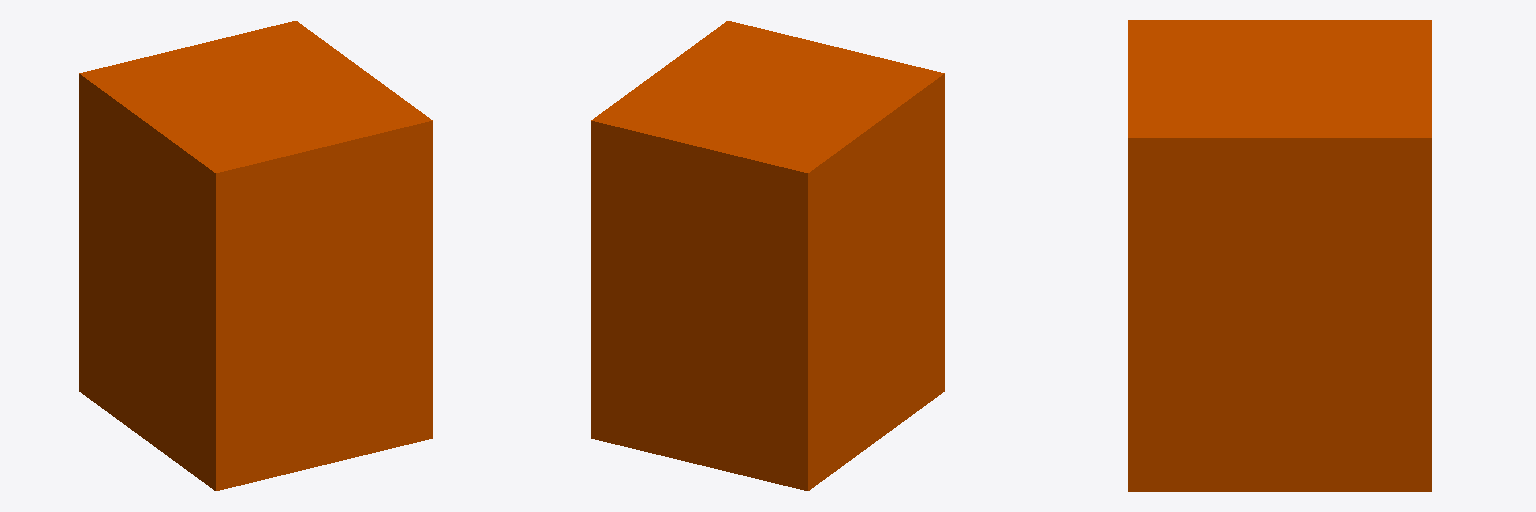
robot.urdf — [local-path]/GIT/Justina/src/Hardware/justina_description/webots:
<?xml version="1.0"?>
<robot name="/home/devan/GIT/Justina/src/Hardware/justina_description/webots_env/urdf/RobotinoBase.urdf" xmlns:xacro="http://ros.org/wiki/xacro">
  <link name="base_link">
  </link>
  <joint name="wheel2_joint" type="continuous">
    <parent link="base_link"/>
    <child link="wheel2_link"/>
    <axis xyz="-0.000001 1 0"/>
    <limit effort="10" velocity="3"/>
    <origin xyz="0.0825 0.142894 0.063899" rpy="0 0 -0.5236"/>
  </joint>
  <link name="wheel2_link">
  </link>
  <joint name="wheel1_joint" type="continuous">
    <parent link="base_link"/>
    <child link="wheel1_link"/>
    <axis xyz="0 1 0"/>
    <limit effort="10" velocity="3"/>
    <origin xyz="0.0825 -0.142894 0.064106" rpy="0 0 -2.617994"/>
  </joint>
  <link name="wheel1_link">
  </link>
  <joint name="wheel0_joint" type="continuous">
    <parent link="base_link"/>
    <child link="wheel0_link"/>
    <axis xyz="0.000003 1 0"/>
    <limit effort="10" velocity="3"/>
    <origin xyz="-0.165 0 0.064096" rpy="0 0 1.5708"/>
  </joint>
  <link name="wheel0_link">
  </link>
  <link name="tower_link">
  </link>
  <joint name="base_link_tower_link_joint" type="fixed">
    <parent link="base_link"/>
    <child link="tower_link"/>
    <origin xyz="0 0 0.000199" rpy="0 0 0"/>
  </joint>
  <link name="laser_link">
    <visual>
      <origin xyz="0 -0.002 0.035" rpy="0 0 0"/>
      <geometry>
        <box size="0.05 0.05455 0.07"/>
      </geometry>
    </visual>
    <collision>
      <origin xyz="0 -0.002 0.035" rpy="0 0 0"/>
      <geometry>
        <box size="0.05 0.05455 0.07"/>
      </geometry>
    </collision>
  </link>
  <joint name="base_link_laser_link_joint" type="fixed">
    <parent link="base_link"/>
    <child link="laser_link"/>
    <origin xyz="0.06 0 0.1975" rpy="0 0 0"/>
  </joint>
  <link name="torso_link">
  </link>
  <joint name="base_link_torso_link_joint" type="fixed">
    <parent link="base_link"/>
    <child link="torso_link"/>
    <origin xyz="0 0 0.785" rpy="0 0 0"/>
  </joint>
  <link name="spine_link">
  </link>
  <joint name="torso_link_spine_link_joint" type="fixed">
    <parent link="torso_link"/>
    <child link="spine_link"/>
    <origin xyz="0 0 0.420914" rpy="0 0 0"/>
  </joint>
  <link name="neck_link">
  </link>
  <joint name="spine_link_neck_link_joint" type="fixed">
    <parent link="spine_link"/>
    <child link="neck_link"/>
    <origin xyz="0 0 0.140425" rpy="0 0 0"/>
  </joint>
  <joint name="head_pan_joint" type="revolute">
    <parent link="neck_link"/>
    <child link="head_link"/>
    <axis xyz="0 0 1"/>
    <limit effort="16" lower="-1.7" upper="1.7" velocity="3"/>
    <origin xyz="0 0 0.0205" rpy="0 0 0"/>
  </joint>
  <link name="head_link">
  </link>
  <joint name="head_tilt_joint" type="revolute">
    <parent link="head_link"/>
    <child link="mask_link"/>
    <axis xyz="0 -1 0"/>
    <limit effort="16" lower="-1.7" upper="1.7" velocity="3"/>
    <origin xyz="0 0 0.058493" rpy="0 0 0"/>
  </joint>
  <link name="mask_link">
  </link>
  <link name="camera_link">
  </link>
  <joint name="mask_link_camera_link_joint" type="fixed">
    <parent link="mask_link"/>
    <child link="camera_link"/>
    <origin xyz="0 0 0.083435" rpy="0 0 0"/>
  </joint>
  <link name="left_shoulder_link">
  </link>
  <joint name="spine_link_left_shoulder_link_joint" type="fixed">
    <parent link="spine_link"/>
    <child link="left_shoulder_link"/>
    <origin xyz="0 0.212537 -0.044976" rpy="0 0 0"/>
  </joint>
  <joint name="left_motor_frame_joint" type="revolute">
    <parent link="left_shoulder_link"/>
    <child link="left_motor_frame_link"/>
    <axis xyz="0 -1 0"/>
    <limit effort="16" lower="-1.7" upper="1.7" velocity="3"/>
    <origin xyz="0 0 -0.060551" rpy="0 0 0"/>
  </joint>
  <link name="left_motor_frame_link">
  </link>
  <joint name="left_arm_joint" type="revolute">
    <parent link="left_motor_frame_link"/>
    <child link="left_arm_link"/>
    <axis xyz="0 0 -1"/>
    <limit effort="16" lower="-1.7" upper="1.7" velocity="3"/>
    <origin xyz="0 0 -0.034581" rpy="0 0 0"/>
  </joint>
  <link name="left_arm_link">
  </link>
  <joint name="left_elbow_joint" type="revolute">
    <parent link="left_arm_link"/>
    <child link="left_forearm_link"/>
    <axis xyz="0 -1 0"/>
    <limit effort="16" lower="-1.7" upper="1.7" velocity="3"/>
    <origin xyz="0 0 -0.216002" rpy="0 0 0"/>
  </joint>
  <link name="left_forearm_link">
  </link>
  <joint name="left_wrist_joint" type="revolute">
    <parent link="left_forearm_link"/>
    <child link="left_wrist_link"/>
    <axis xyz="0 0 -1"/>
    <limit effort="16" lower="-1.7" upper="0" velocity="3"/>
    <origin xyz="0 0 -0.2305" rpy="0 0 0"/>
  </joint>
  <link name="left_wrist_link">
  </link>
  <joint name="left_griper_R_joint" type="revolute">
    <parent link="left_wrist_link"/>
    <child link="left_griper_R_link"/>
    <axis xyz="-1 0 0"/>
    <limit effort="16" lower="-1.7" upper="1.7" velocity="3"/>
    <origin xyz="0 -0.0405 -0.021675" rpy="0 0 0"/>
  </joint>
  <link name="left_griper_R_link">
  </link>
  <joint name="left_griper_L_joint" type="revolute">
    <parent link="left_wrist_link"/>
    <child link="left_griper_L_link"/>
    <axis xyz="-1 0 0"/>
    <limit effort="16" lower="-1.7" upper="1.7" velocity="3"/>
    <origin xyz="0 0.0405 -0.0217" rpy="0 0 0"/>
  </joint>
  <link name="left_griper_L_link">
  </link>
  <link name="right_shoulder_link">
  </link>
  <joint name="spine_link_right_shoulder_link_joint" type="fixed">
    <parent link="spine_link"/>
    <child link="right_shoulder_link"/>
    <origin xyz="0 -0.212537 -0.044976" rpy="0 0 0"/>
  </joint>
  <joint name="right_motor_frame_joint" type="revolute">
    <parent link="right_shoulder_link"/>
    <child link="right_motor_frame_link"/>
    <axis xyz="0 -1 0"/>
    <limit effort="16" lower="-1.7" upper="1.7" velocity="3"/>
    <origin xyz="0 0 -0.060551" rpy="0 0 0"/>
  </joint>
  <link name="right_motor_frame_link">
  </link>
  <joint name="right_arm_joint" type="revolute">
    <parent link="right_motor_frame_link"/>
    <child link="right_arm_link"/>
    <axis xyz="0 0 -1"/>
    <limit effort="16" lower="-1.7" upper="1.7" velocity="3"/>
    <origin xyz="0 0 -0.03458" rpy="0 0 0"/>
  </joint>
  <link name="right_arm_link">
  </link>
  <joint name="right_elbow_joint" type="revolute">
    <parent link="right_arm_link"/>
    <child link="right_forearm_link"/>
    <axis xyz="0 -1 0"/>
    <limit effort="16" lower="-1.7" upper="1.7" velocity="3"/>
    <origin xyz="0 0 -0.216001" rpy="0 0 0"/>
  </joint>
  <link name="right_forearm_link">
  </link>
  <joint name="right_wrist_joint" type="revolute">
    <parent link="right_forearm_link"/>
    <child link="right_wrist_link"/>
    <axis xyz="0 0 -1"/>
    <limit effort="16" lower="-1.7" upper="1.7" velocity="3"/>
    <origin xyz="0 0 -0.2305" rpy="0 0 0"/>
  </joint>
  <link name="right_wrist_link">
  </link>
  <joint name="right_griper_R_joint" type="revolute">
    <parent link="right_wrist_link"/>
    <child link="right_griper_R_link"/>
    <axis xyz="-1 0 0"/>
    <limit effort="16" lower="-1.7" upper="1.7" velocity="3"/>
    <origin xyz="0 -0.0405 -0.0217" rpy="0 0 0"/>
  </joint>
  <link name="right_griper_R_link">
  </link>
  <joint name="right_griper_L_joint" type="revolute">
    <parent link="right_wrist_link"/>
    <child link="right_griper_L_link"/>
    <axis xyz="-1 0 0"/>
    <limit effort="16" lower="-1.7" upper="1.7" velocity="3"/>
    <origin xyz="0 0.0405 -0.0217" rpy="0 0 0"/>
  </joint>
  <link name="right_griper_L_link">
  </link>
</robot>

--- Facts derived from the render (not from the file) ---
Views: 3 orthographic renders of the robot side by side, from view 1: azimuth 30°, elevation 25°; view 2: azimuth 150°, elevation 25°; view 3: azimuth 270°, elevation 25°.
Model [local-path]/GIT/Justina/src/Hardware/justina_description/webots with 26 links and 25 joints (14 revolute, 3 continuous, 8 fixed), rooted at base_link, posed all joints at 0.
Visible links, largest first — view 1: laser_link; view 2: laser_link; view 3: laser_link.
Boxes of the visible links, x1,y1,x2,y2 form: laser_link: (79,21,432,490); laser_link: (591,21,944,490); laser_link: (1128,20,1431,491).
Size in the robot's own frame: 0.05 by 0.0545 by 0.07 metres.
Geometry: primitives only (box / cylinder / sphere), no mesh files.
